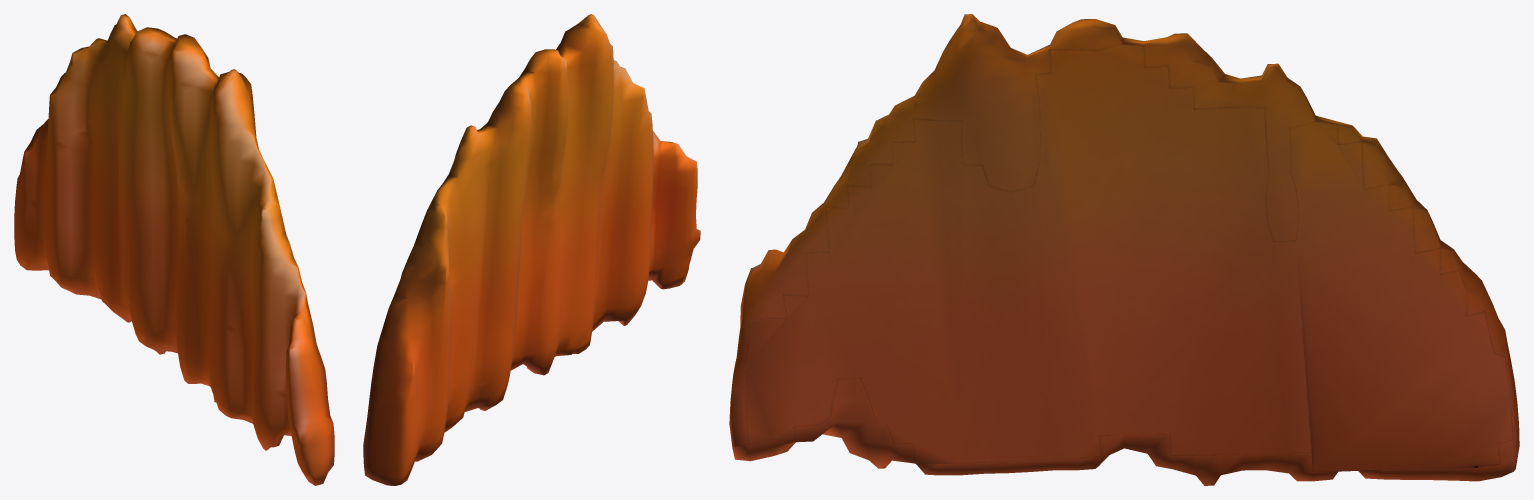
Rendered from carrot.glb.
The picture shows the model from 3 angles, left to right: view 1: azimuth 30°, elevation 25°; view 2: azimuth 150°, elevation 25°; view 3: azimuth 270°, elevation 25°; orthographic projection. The views are drawn at different scales.
Visible parts, largest first — view 1: carrot _low; view 2: carrot _low; view 3: carrot _low.
Part boxes in pixels (left/top/right/bottom): carrot _low: left=14, top=14, right=334, bottom=485; carrot _low: left=363, top=14, right=700, bottom=485; carrot _low: left=729, top=14, right=1519, bottom=485.
Bounding box in the file's own units: 0.128 × 0.6475 × 1.01.
Materials: 1 (1 with a texture image).
